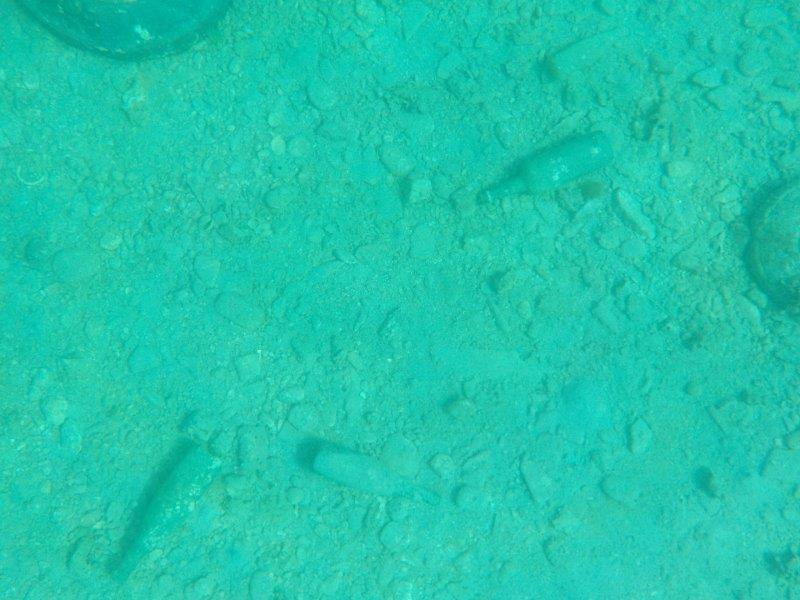bottle: (108, 442, 226, 586), (473, 129, 617, 209), (308, 437, 447, 514), (543, 24, 628, 84)
